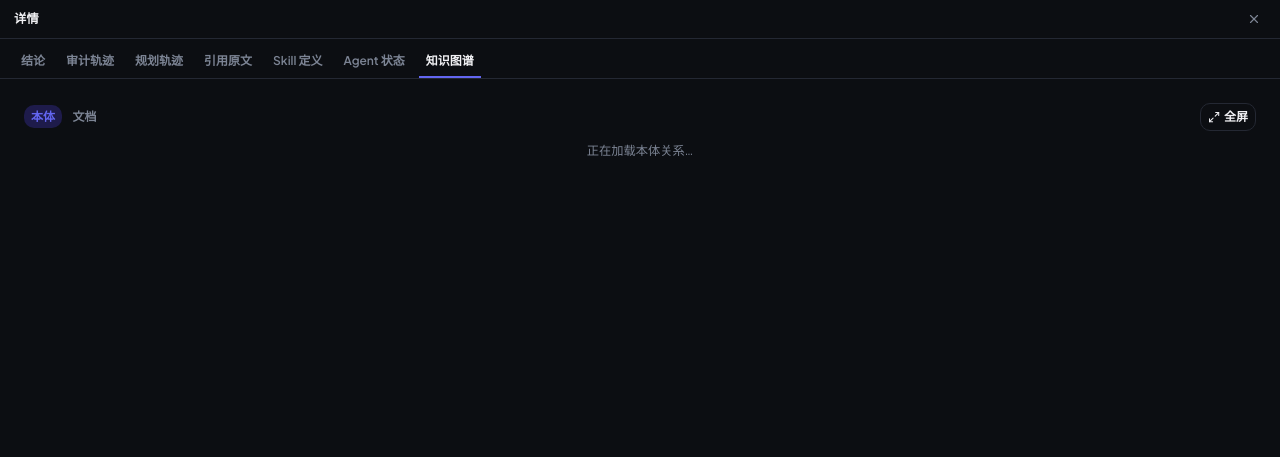
DetailPanel › knowledge-graph kind mounts the empty-state hero when BE returns an empty corpus (SC-5)
Click the button with test id "graph-mode-document" at (84, 117), box [66,105,104,128]
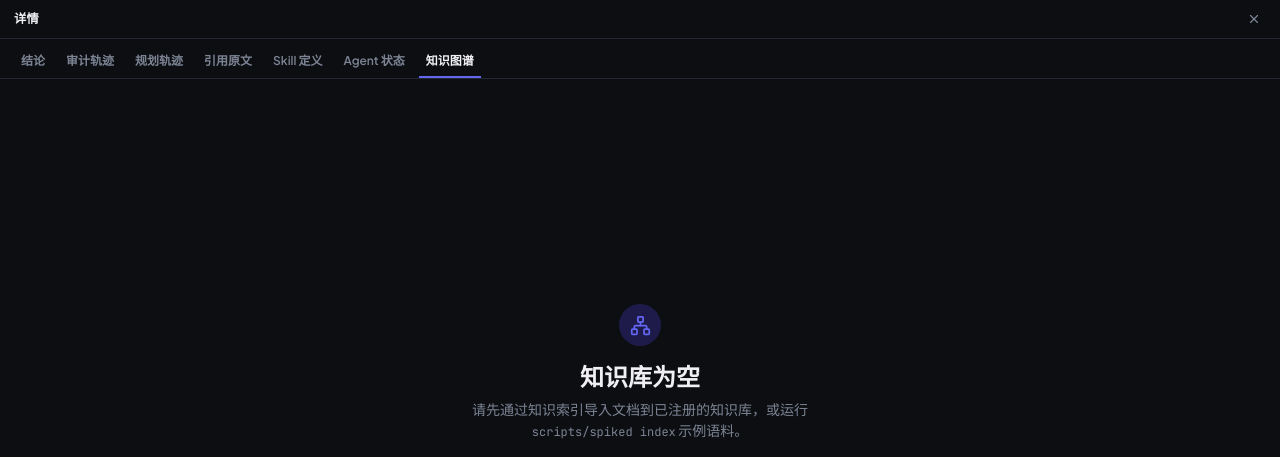
Expected: the element with test id "knowledge-graph-empty" is shown, [472,304,808,440]
Expected: the element with test id "knowledge-graph-empty" shows "知识库为空", [580,361,700,391]
